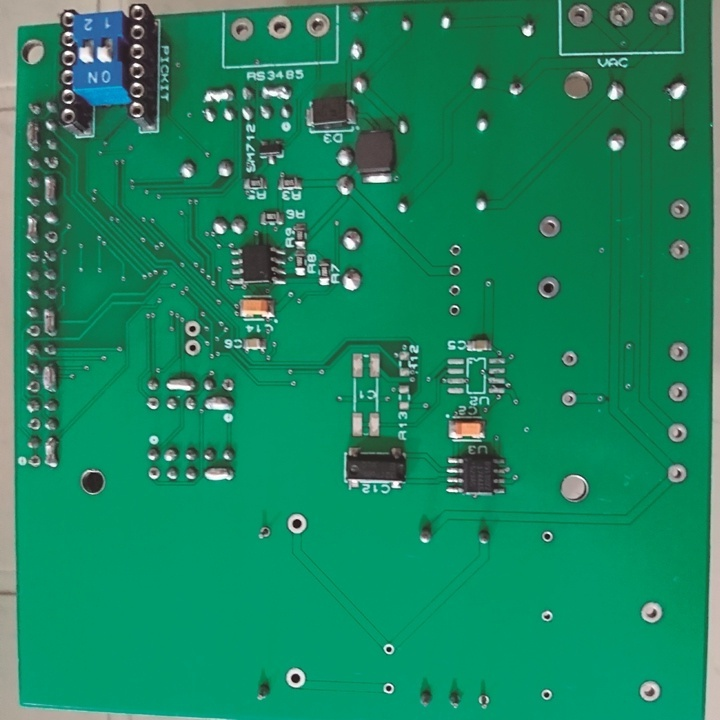F: (565, 1, 596, 33), (648, 1, 677, 32), (607, 2, 636, 30), (303, 12, 333, 39), (229, 16, 257, 43), (267, 13, 294, 40), (537, 274, 563, 301), (636, 676, 661, 704), (640, 598, 664, 627), (536, 214, 563, 239), (665, 459, 688, 488), (664, 420, 690, 445), (667, 237, 693, 261), (285, 512, 309, 538), (667, 197, 693, 220), (666, 339, 690, 363), (284, 666, 307, 691), (667, 379, 690, 403), (559, 348, 579, 367), (559, 389, 578, 409), (39, 152, 61, 169), (183, 318, 201, 338), (181, 338, 202, 355), (255, 523, 273, 542), (475, 692, 491, 712), (41, 228, 61, 244), (447, 240, 463, 258), (219, 375, 236, 391), (144, 395, 161, 411), (381, 680, 396, 698), (26, 415, 41, 432), (24, 379, 41, 394), (24, 323, 41, 338), (538, 686, 553, 702), (381, 642, 396, 658), (447, 261, 461, 278), (540, 608, 553, 626), (447, 283, 463, 297), (147, 465, 161, 481), (541, 529, 555, 544), (447, 302, 461, 316), (26, 454, 40, 468)
P: (203, 463, 237, 484), (41, 434, 61, 469), (42, 173, 60, 209), (260, 82, 296, 100), (165, 374, 197, 394), (202, 395, 236, 413), (202, 86, 236, 103), (41, 362, 59, 393), (41, 306, 58, 338), (24, 211, 39, 246), (26, 119, 39, 153)
